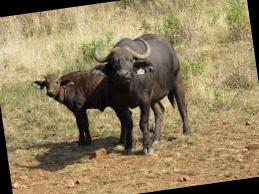Buffalo: (75, 27, 215, 157)
